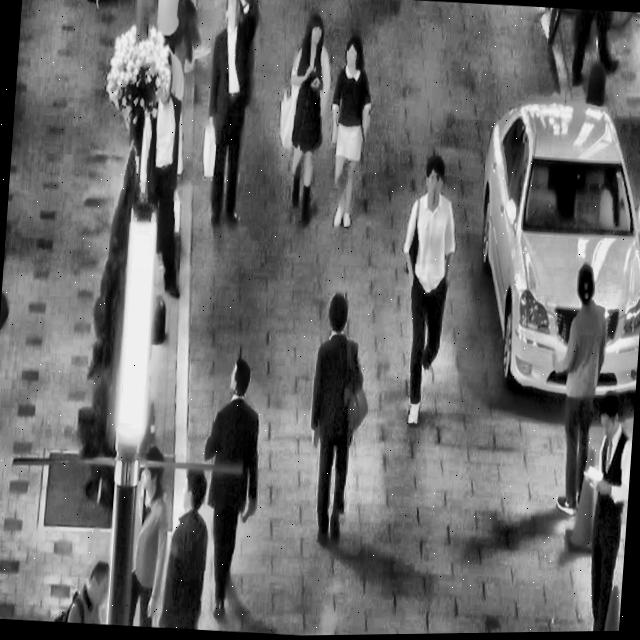light_vehicle: (462, 77, 640, 414)
